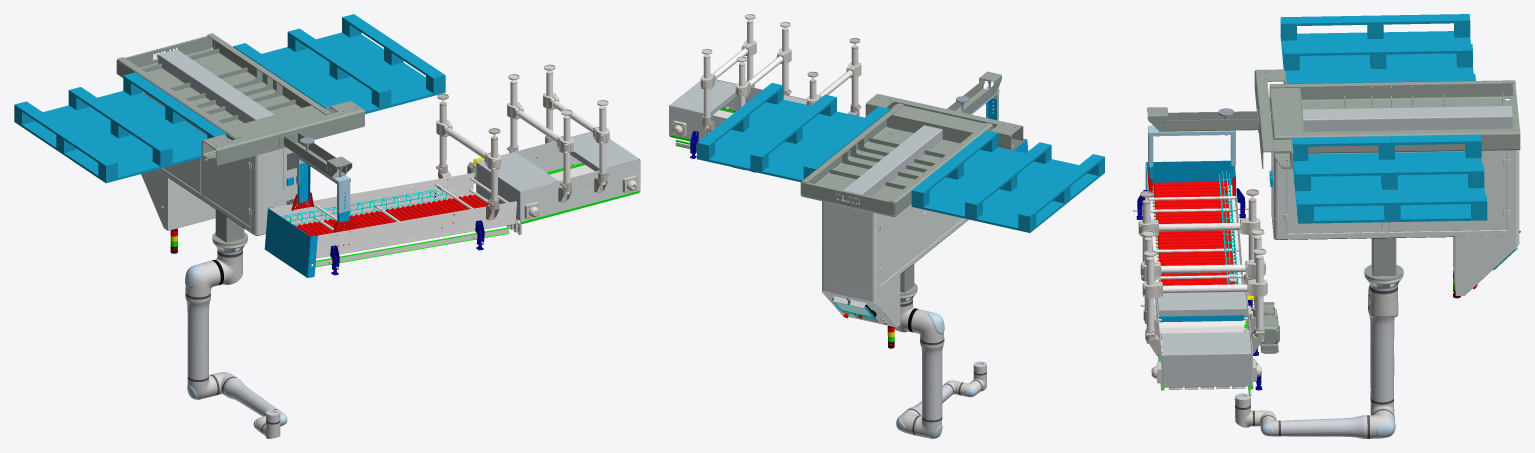
File: 06-base-esteira-90-direita-viradora.glb
The picture shows the model from 3 angles, left to right: view 1: azimuth 30°, elevation 25°; view 2: azimuth 150°, elevation 25°; view 3: azimuth 270°, elevation 25°; orthographic projection. The views are drawn at different scales.
Visible parts, largest first — view 1: KAPTA_AR_Z_UP_TO_Y_UP; view 2: KAPTA_AR_Z_UP_TO_Y_UP; view 3: KAPTA_AR_Z_UP_TO_Y_UP.
Part boxes in pixels (left/top/right/bottom): KAPTA_AR_Z_UP_TO_Y_UP: left=14, top=14, right=640, bottom=438; KAPTA_AR_Z_UP_TO_Y_UP: left=669, top=14, right=1104, bottom=438; KAPTA_AR_Z_UP_TO_Y_UP: left=1133, top=14, right=1520, bottom=438.
Size of the model in its own units: 3.93 by 2.33 by 2.46.
